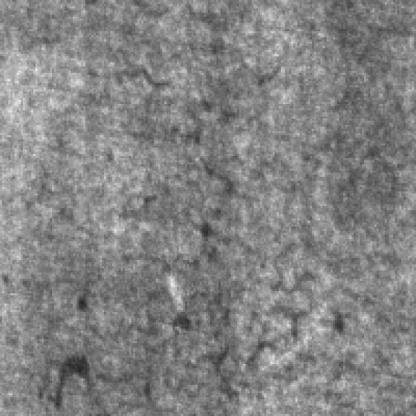crazing: (220, 224, 329, 400)
